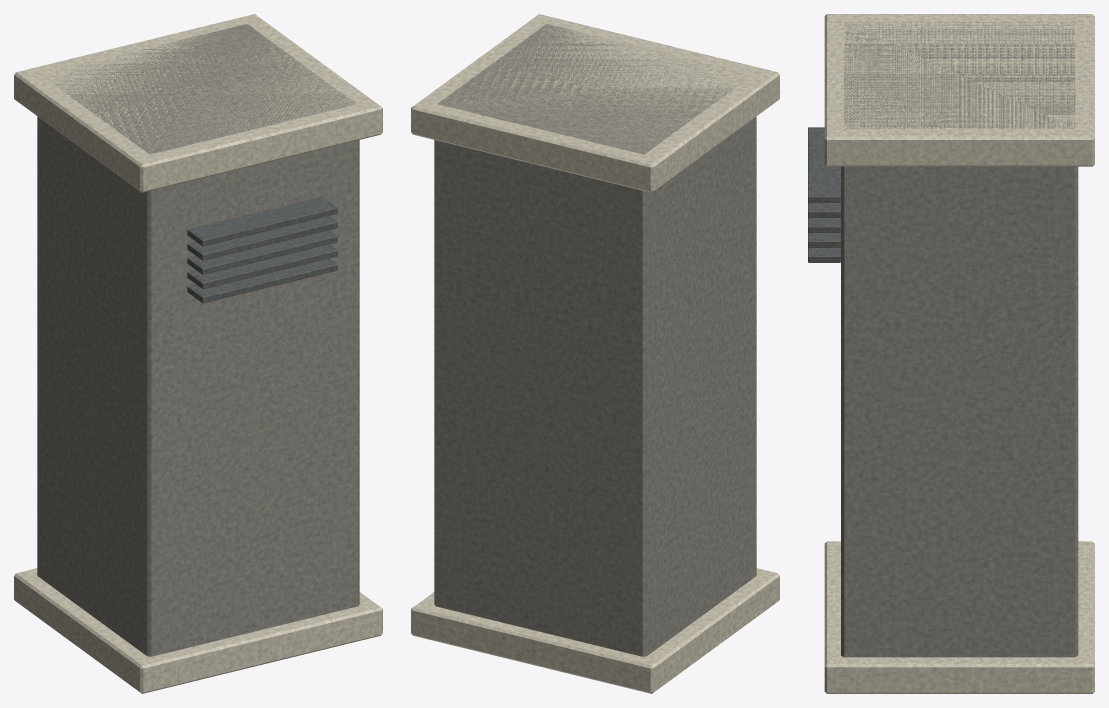
File: TUNN31RW_lod0.glb
3 renders of one model, left to right at view 1: azimuth 30°, elevation 25°; view 2: azimuth 150°, elevation 25°; view 3: azimuth 270°, elevation 25°, orthographic. The views are drawn at different scales.
Parts seen in each view (by area): view 1: TUNN31RW_LOD0; view 2: TUNN31RW_LOD0; view 3: TUNN31RW_LOD0.
Part boxes in pixels (box(x1,y1,x2,y2)): TUNN31RW_LOD0: box(14, 14, 382, 693); TUNN31RW_LOD0: box(411, 14, 779, 693); TUNN31RW_LOD0: box(808, 14, 1094, 693).
Bounding box in the file's own units: 1.43 × 3 × 1.39.
Materials: 4 (4 with a texture image).
